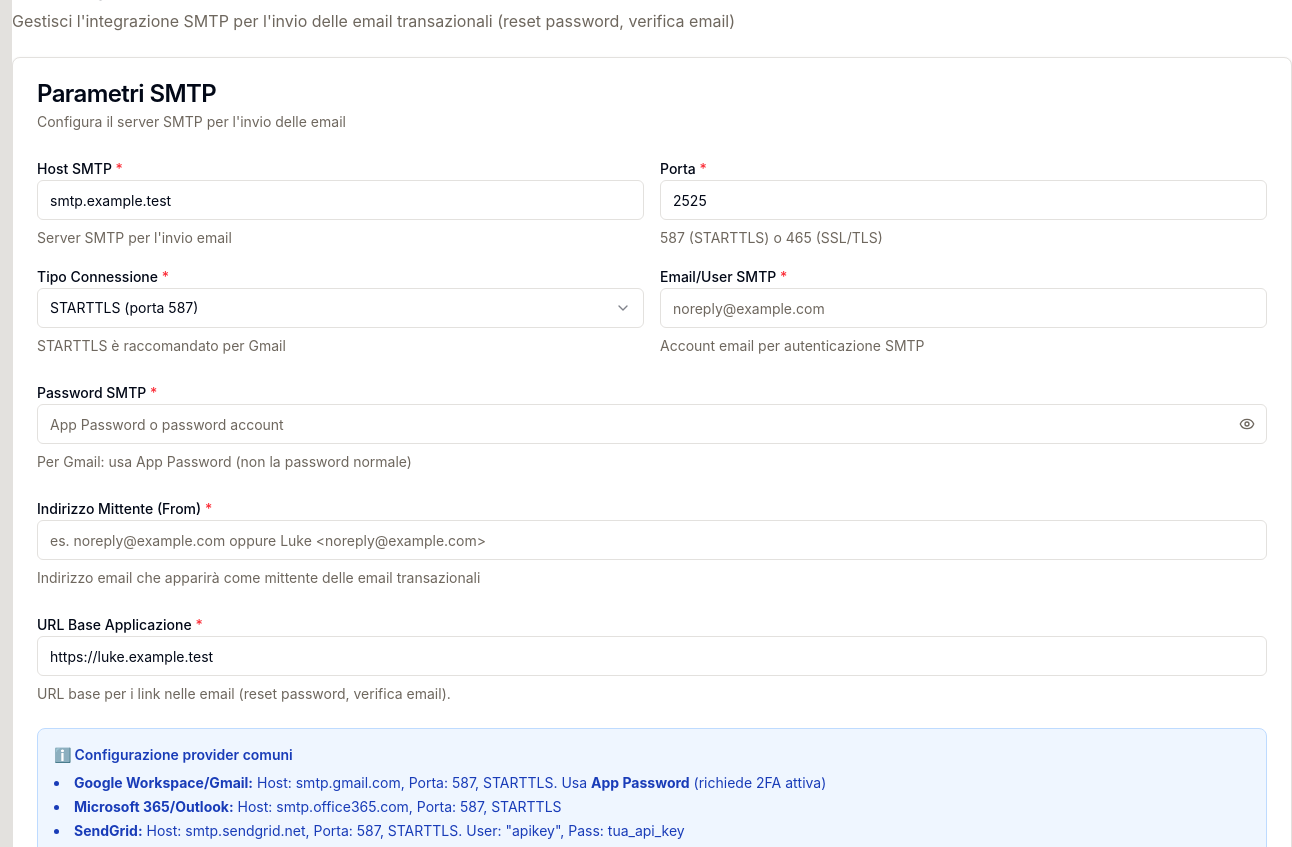
it: the mail form refuses an emptied port with a message
Expected: the field labelled "Host SMTP *" is shown, 37,180 -> 644,220
Clear the number field labelled "Porta *" at (964, 200), box 660,180 -> 1267,220
(page scrolled)
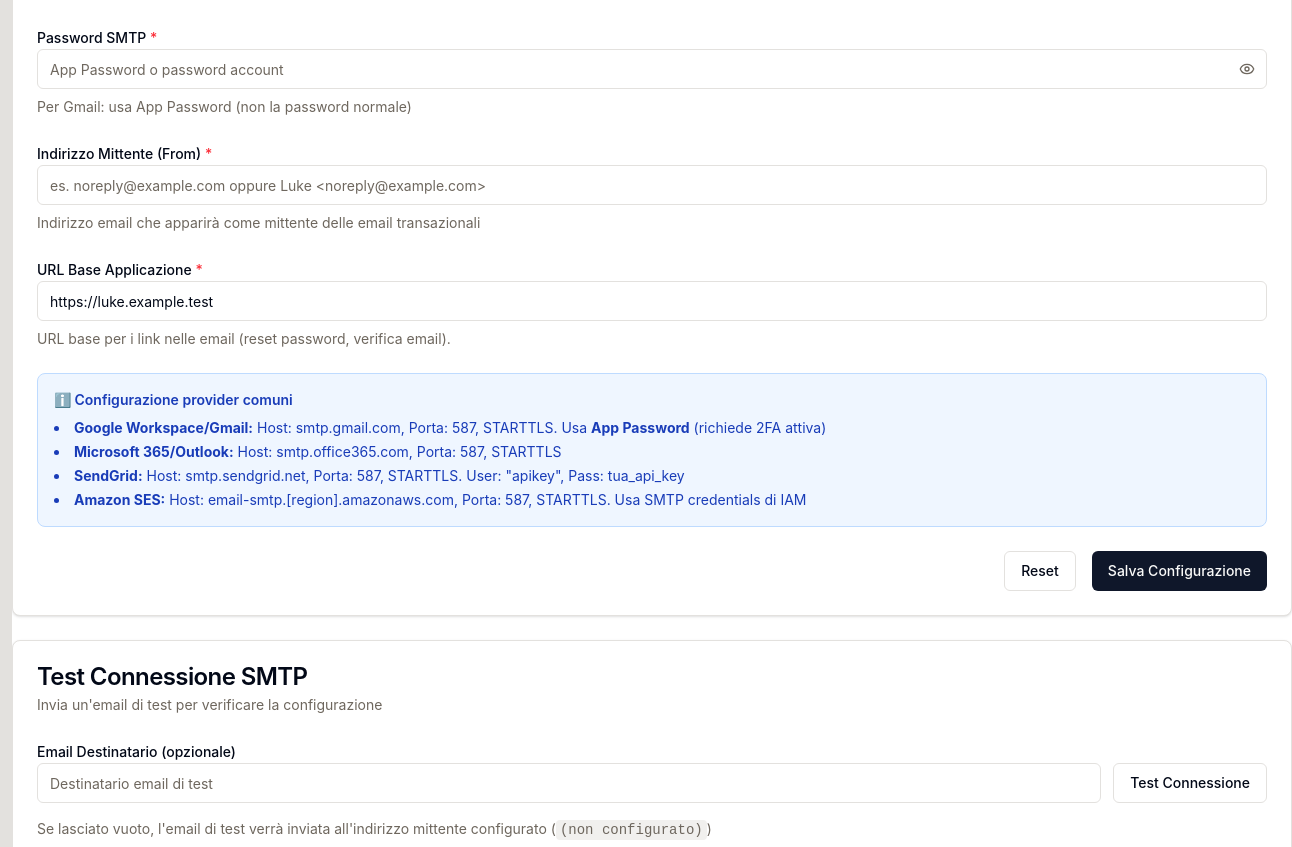
Click the button "Salva Configurazione" at (1179, 571), box 1092,551 -> 1267,591
(page scrolled)
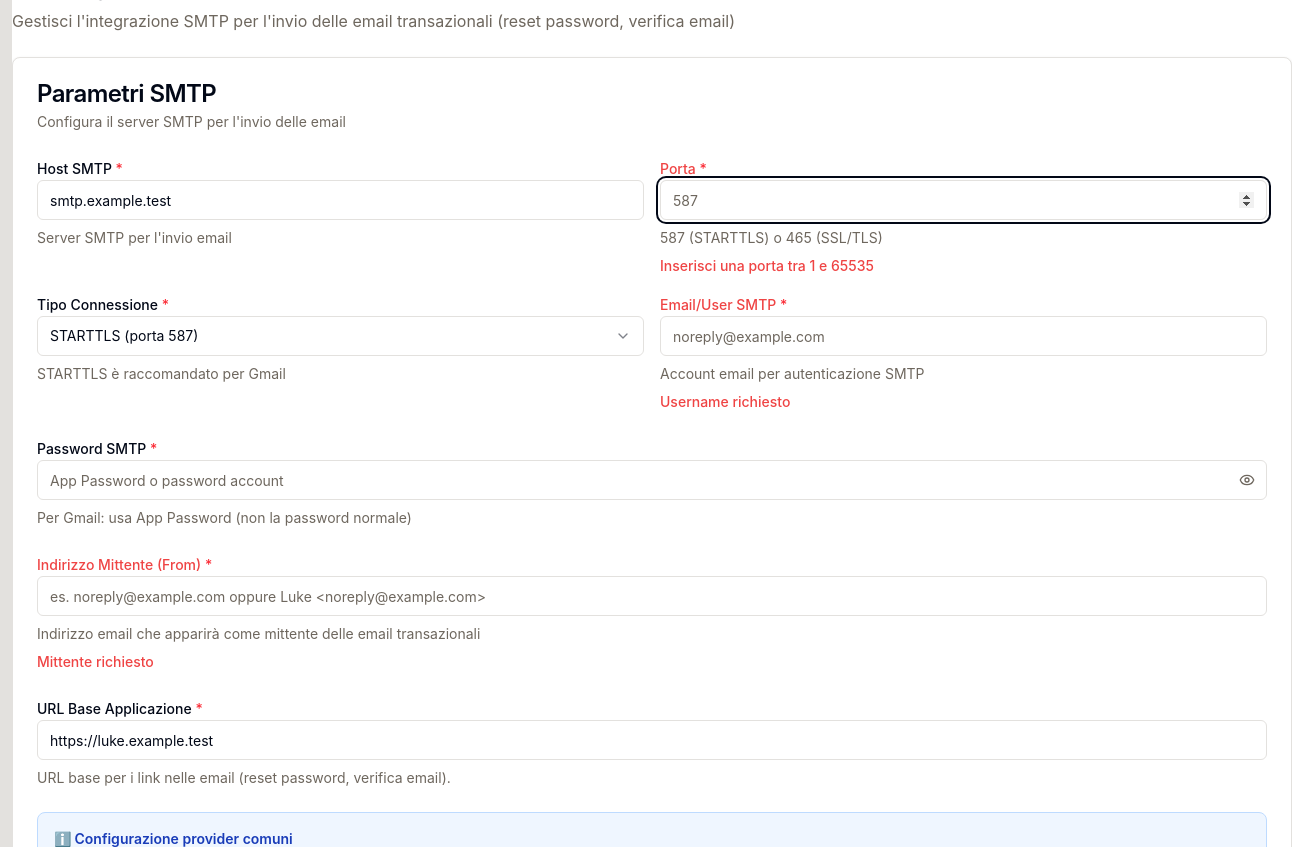
Expected: the text "Inserisci una porta tra 1 e 65535" is shown, 660,257 -> 874,274
